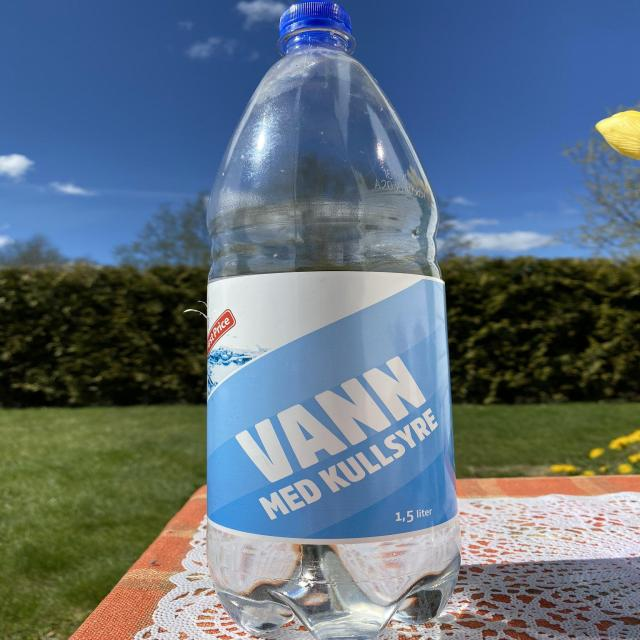bottle: (192, 0, 476, 640)
